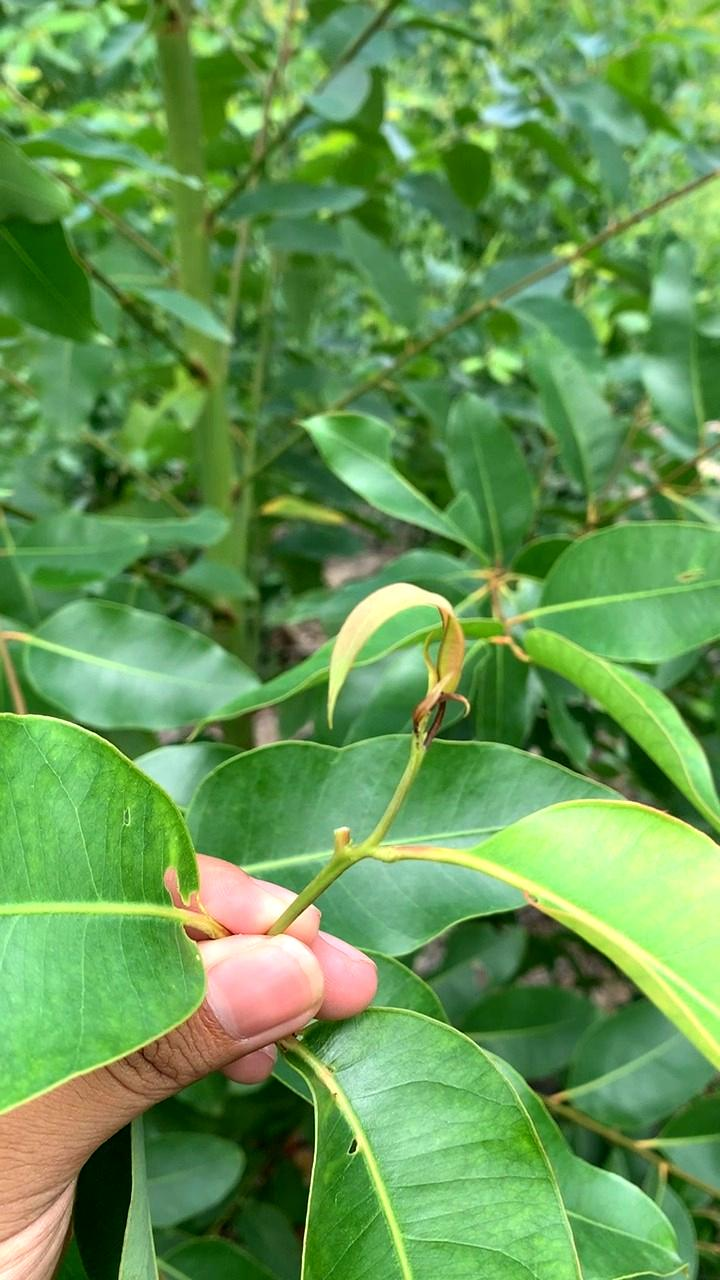Helopeltis-Withered Sprout: (326, 558, 477, 751)
